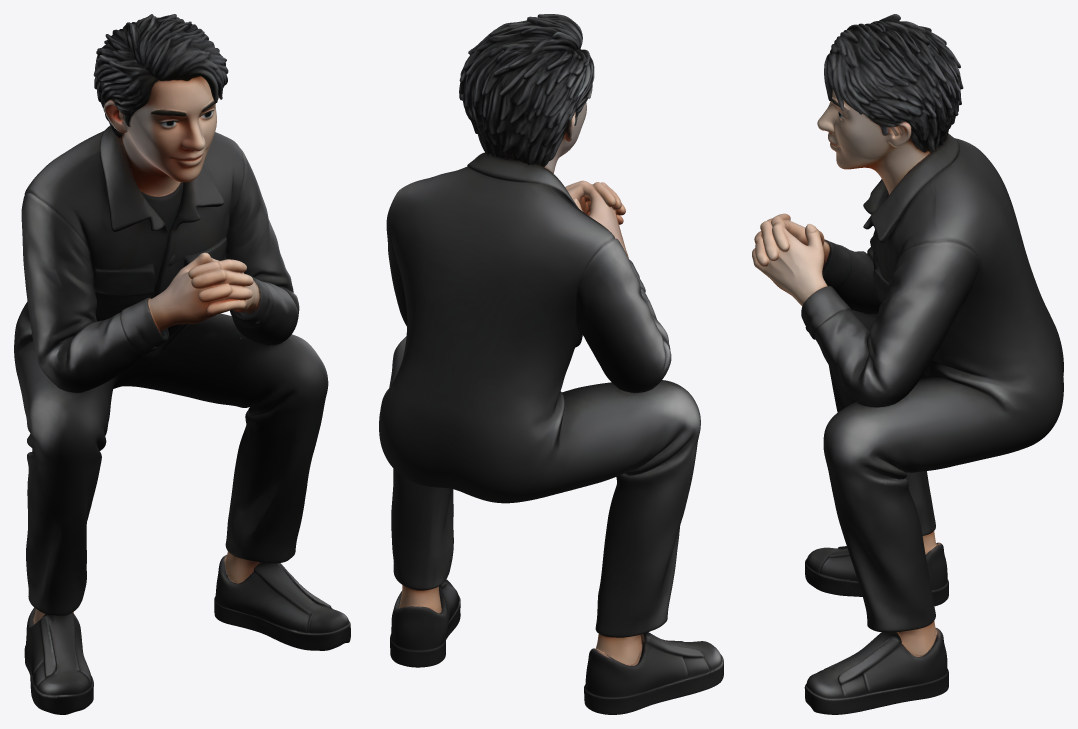
The model's file is RanggaUnity.fbx.
3 renders of one model, left to right at view 1: azimuth 30°, elevation 25°; view 2: azimuth 150°, elevation 25°; view 3: azimuth 270°, elevation 25°, orthographic. The views are drawn at different scales.
Parts seen in each view (by area): view 1: tripo_node_05d8bae5; view 2: tripo_node_05d8bae5; view 3: tripo_node_05d8bae5.
Part boxes in pixels (x1,y1,x2,y2): tripo_node_05d8bae5: (14,14,350,714); tripo_node_05d8bae5: (379,14,723,714); tripo_node_05d8bae5: (752,14,1063,714).
Size of the model in its own units: 0.512 by 1 by 0.4588.
